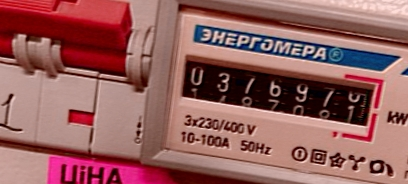0: (189, 64, 206, 88)
1: (344, 103, 358, 125)
3: (216, 71, 234, 95)
6: (267, 74, 286, 99)
7: (241, 71, 259, 96), (321, 85, 338, 110)
9: (293, 80, 311, 105)
screen: (169, 45, 388, 147)
